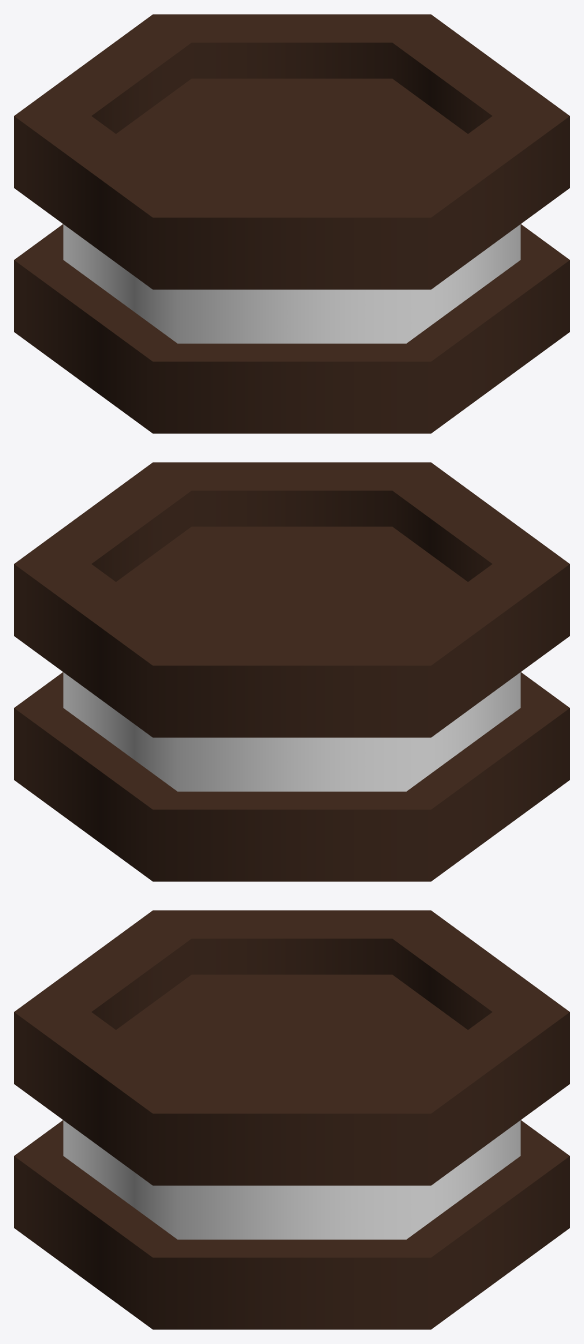
Rendered from Cookie Chocolate.glb.
3 renders of one model, top to bottom at view 1: azimuth 30°, elevation 25°; view 2: azimuth 150°, elevation 25°; view 3: azimuth 270°, elevation 25°, orthographic.
Visible parts, largest first — view 1: cookieChocolate; view 2: cookieChocolate; view 3: cookieChocolate.
Boxes of the visible parts, box(x1,y1,x2,y2) form: cookieChocolate: box(14, 14, 569, 433); cookieChocolate: box(14, 462, 569, 881); cookieChocolate: box(14, 910, 569, 1329).
Bounding box in the file's own units: 0.1212 × 0.06 × 0.14.
